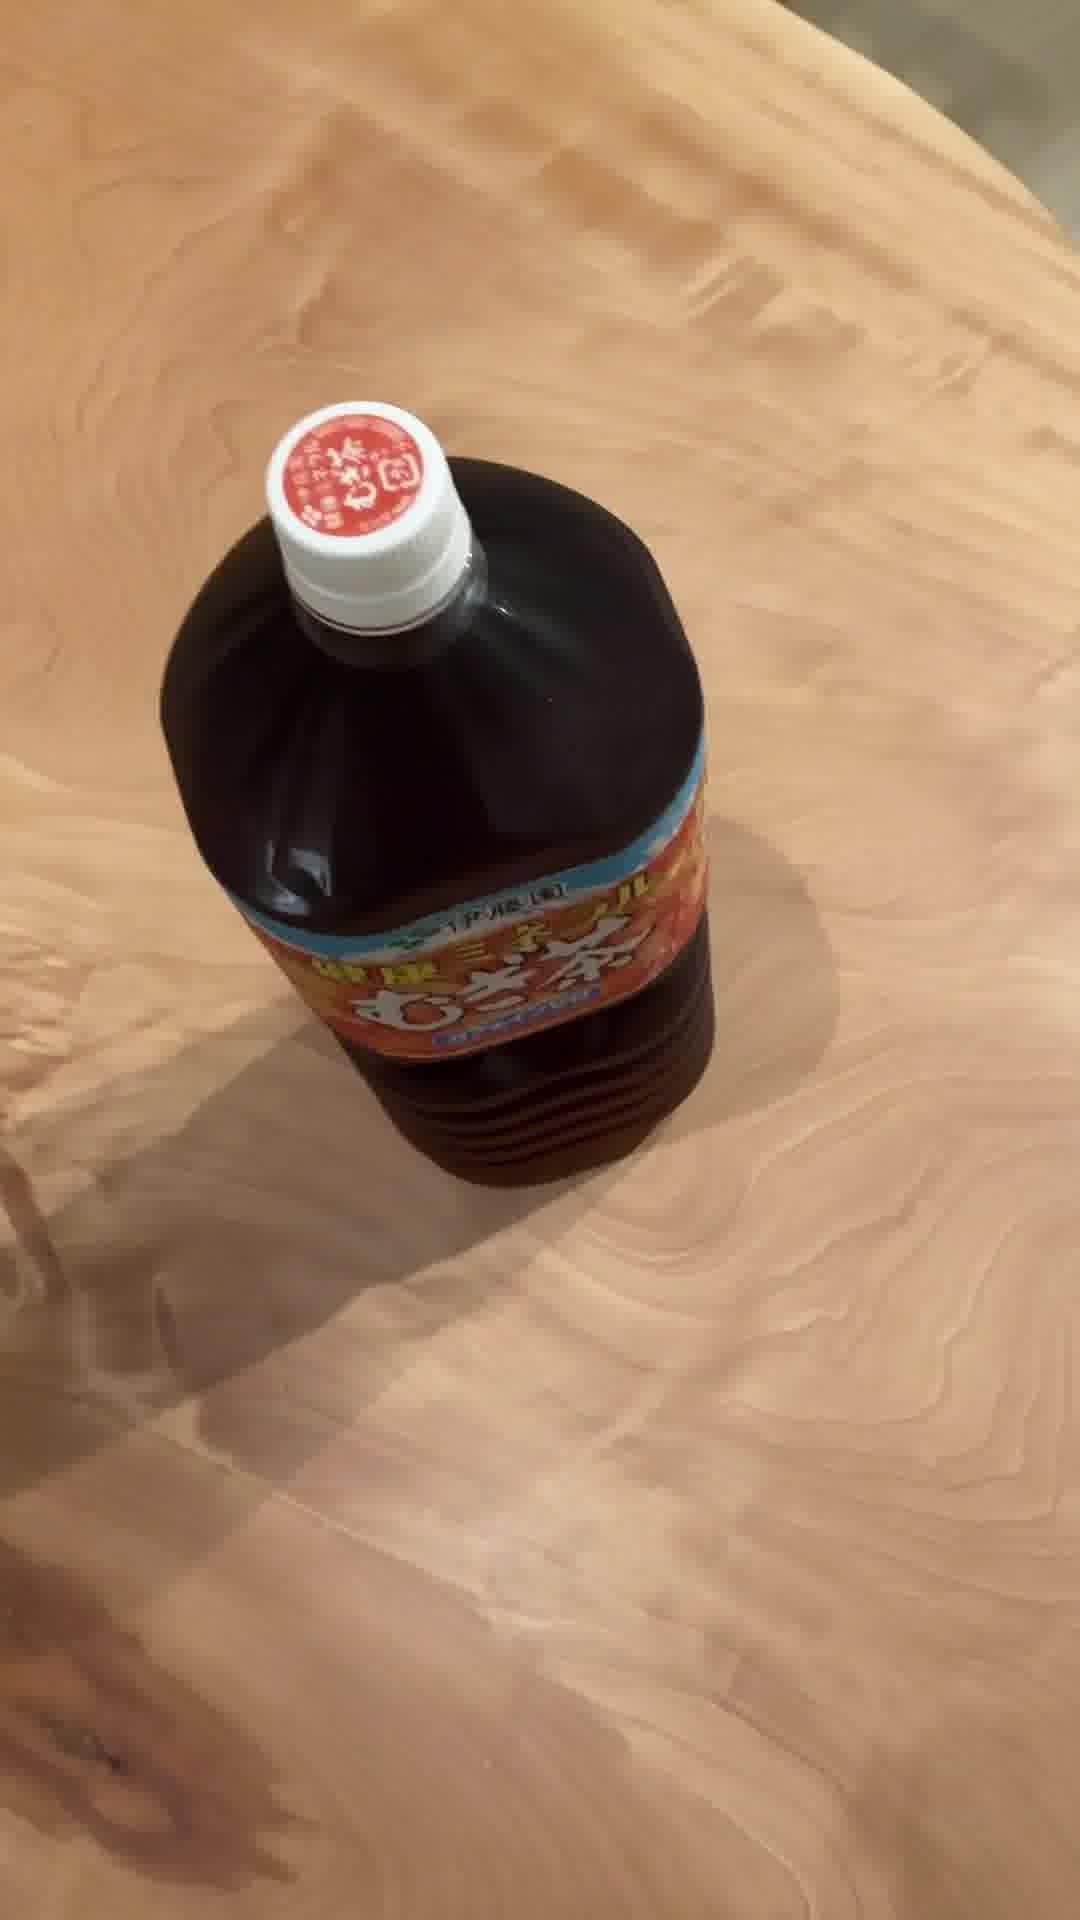BIODEGRADABLE: (156, 398, 718, 1195)
